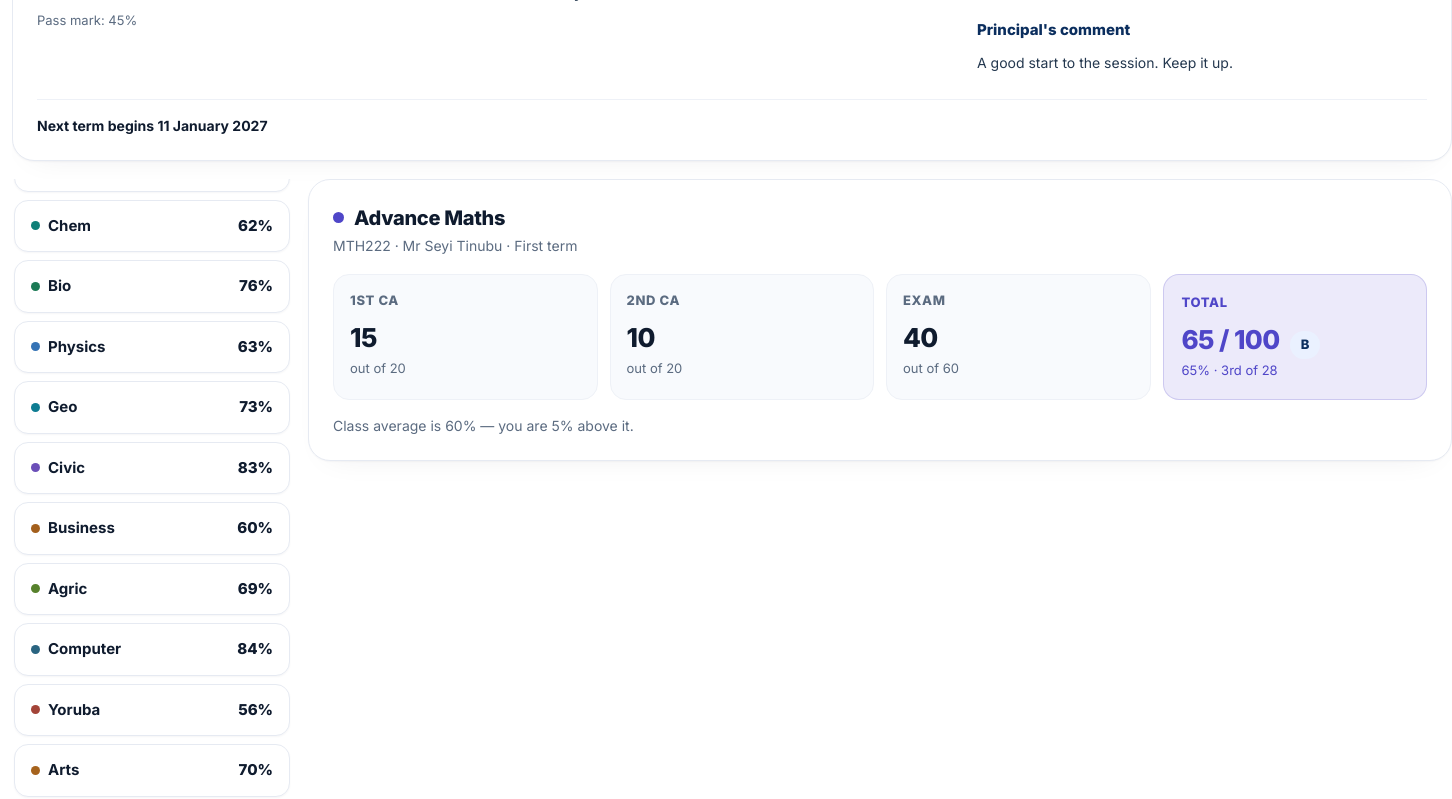
Scenario: Results screen › compares the chosen subject with the class average
The width and height of the screenshot is (1452, 799).
(page scrolled)
Click the button "Computer 84%": x=85, y=648 [14,623,290,676]
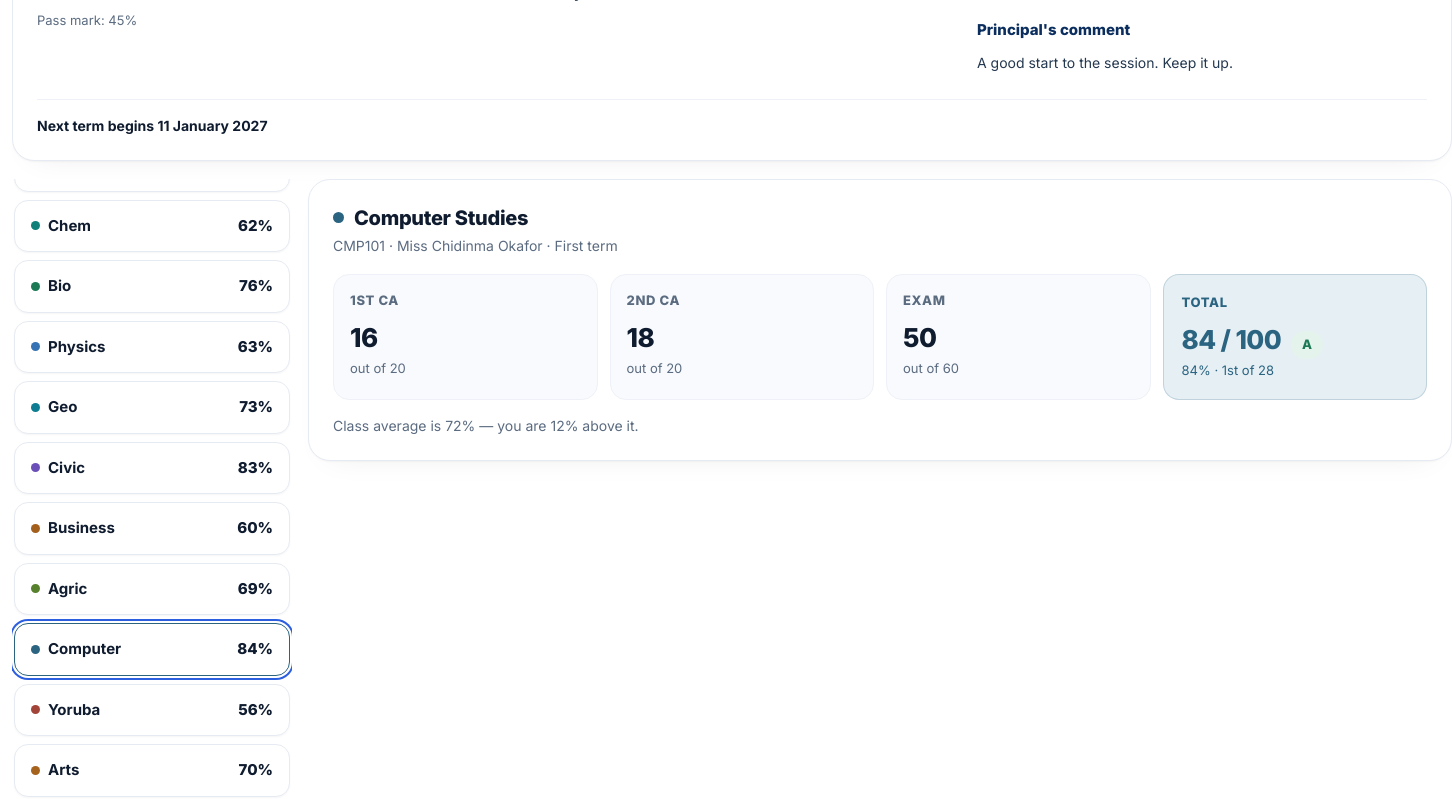
Expected: the text "CMP101 · Miss Chidinma Okafor · First term" is shown, [333,236,618,254]
Expected: the text "84 / 100" is shown, [1182,320,1281,359]
Expected: the text "84% · 1st of 28" is shown, [1182,362,1274,378]
Click the button "Yoruba 56%": x=74, y=709 [14,684,290,736]
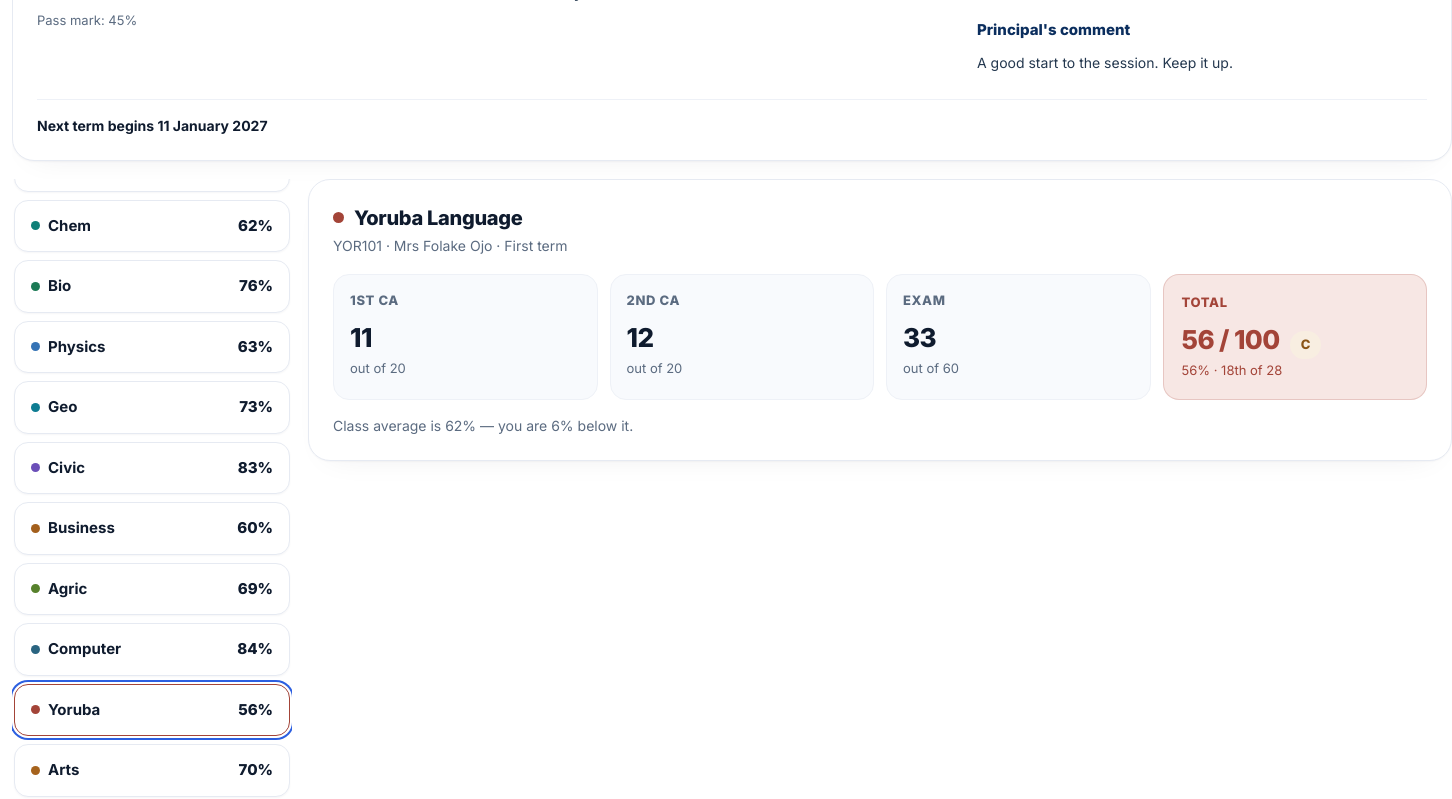
Expected: the text "Class average is 62% — you are 6% below it." is shown, [333,416,633,434]
